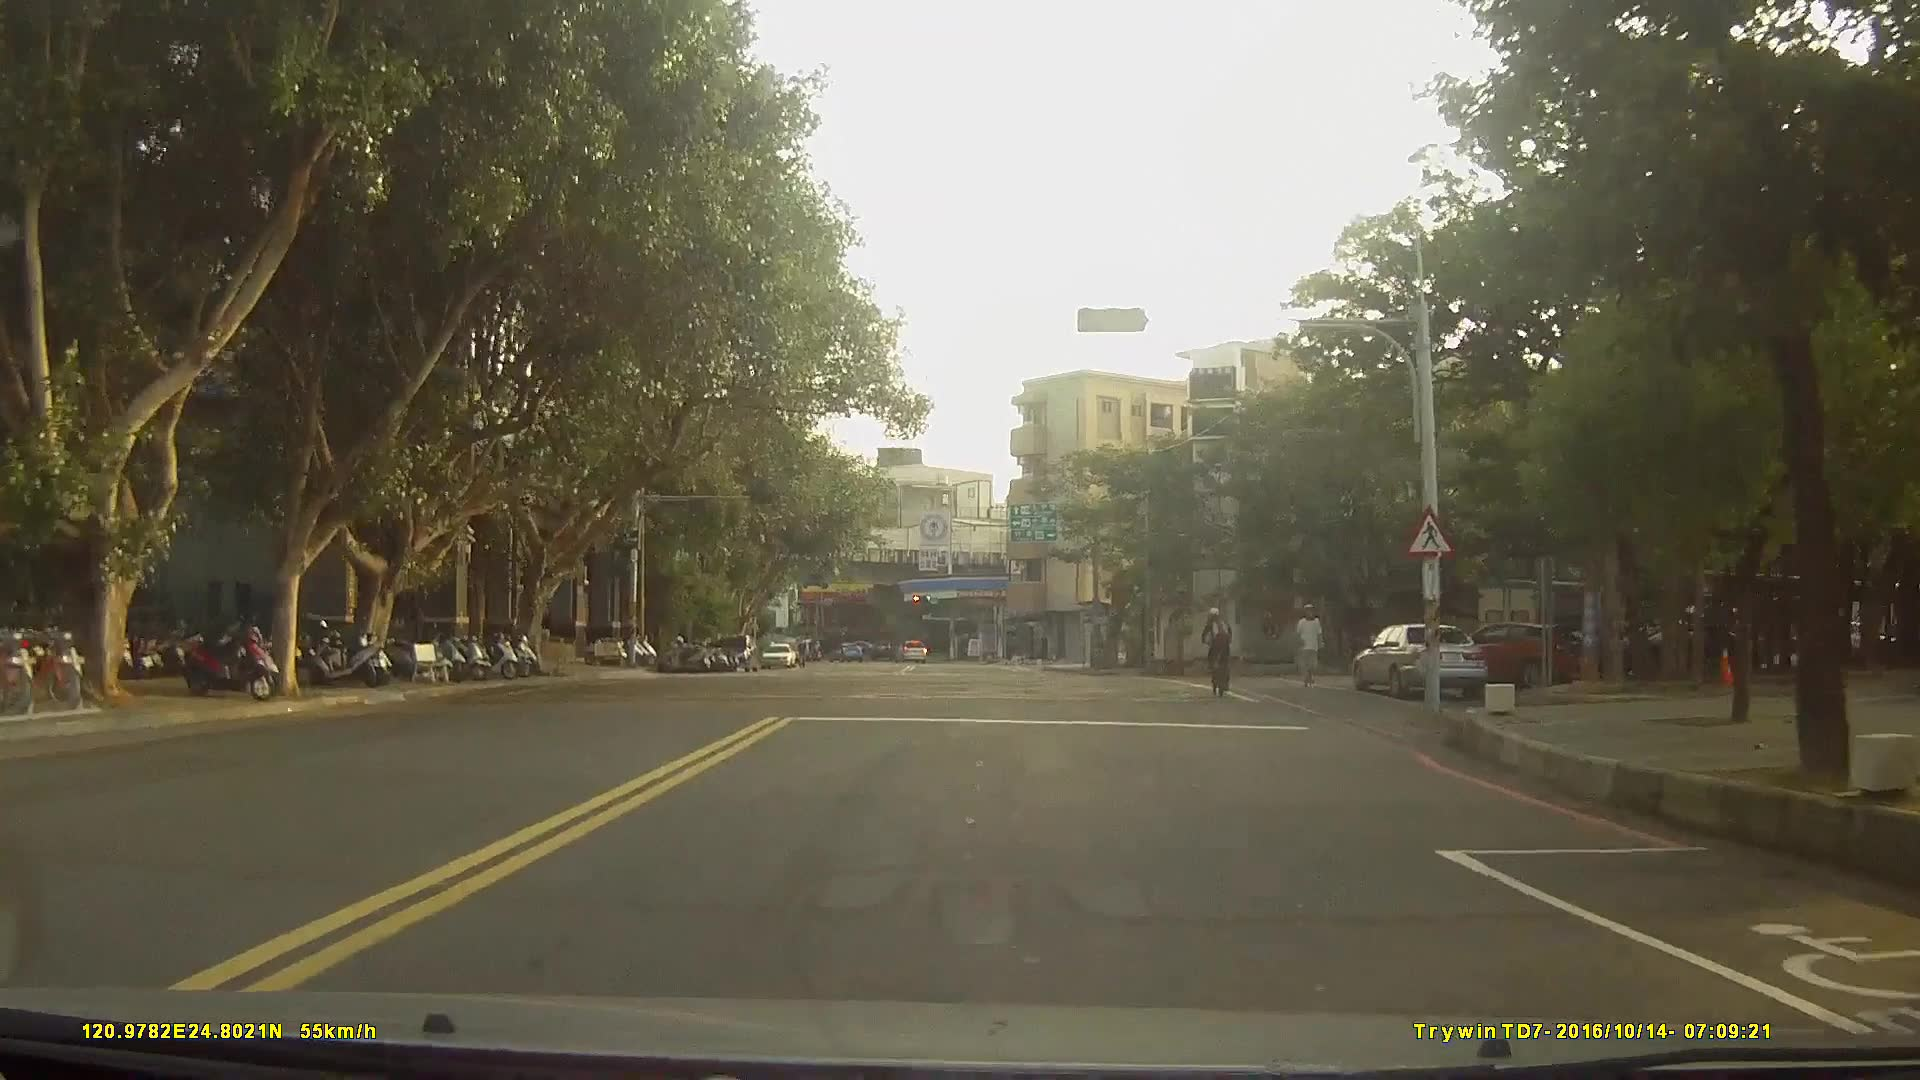pedestrian: (1293, 597, 1328, 701), (536, 611, 556, 643)
rider: (1199, 608, 1233, 701)
vehicle: (1353, 621, 1488, 699), (1442, 620, 1571, 689), (710, 630, 760, 670), (760, 641, 794, 671), (892, 638, 925, 663)
